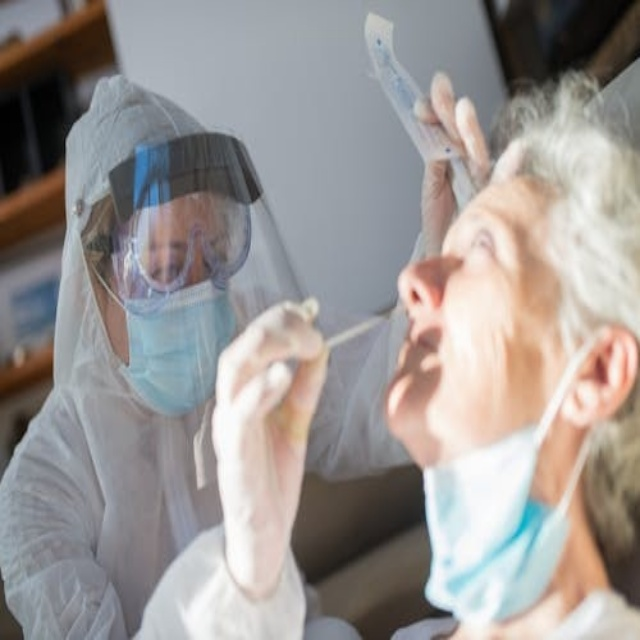Gafas: (85, 136, 262, 313)
Guantes: (204, 284, 340, 600), (409, 68, 493, 250)
Mascara: (106, 284, 251, 423)
Sin_gafas: (444, 213, 530, 276)
Sin_mascara: (392, 309, 474, 379)
